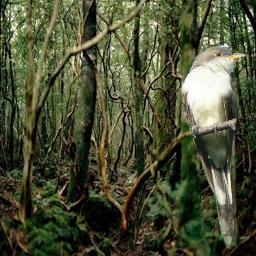Cuckoo: (181, 44, 248, 250)
